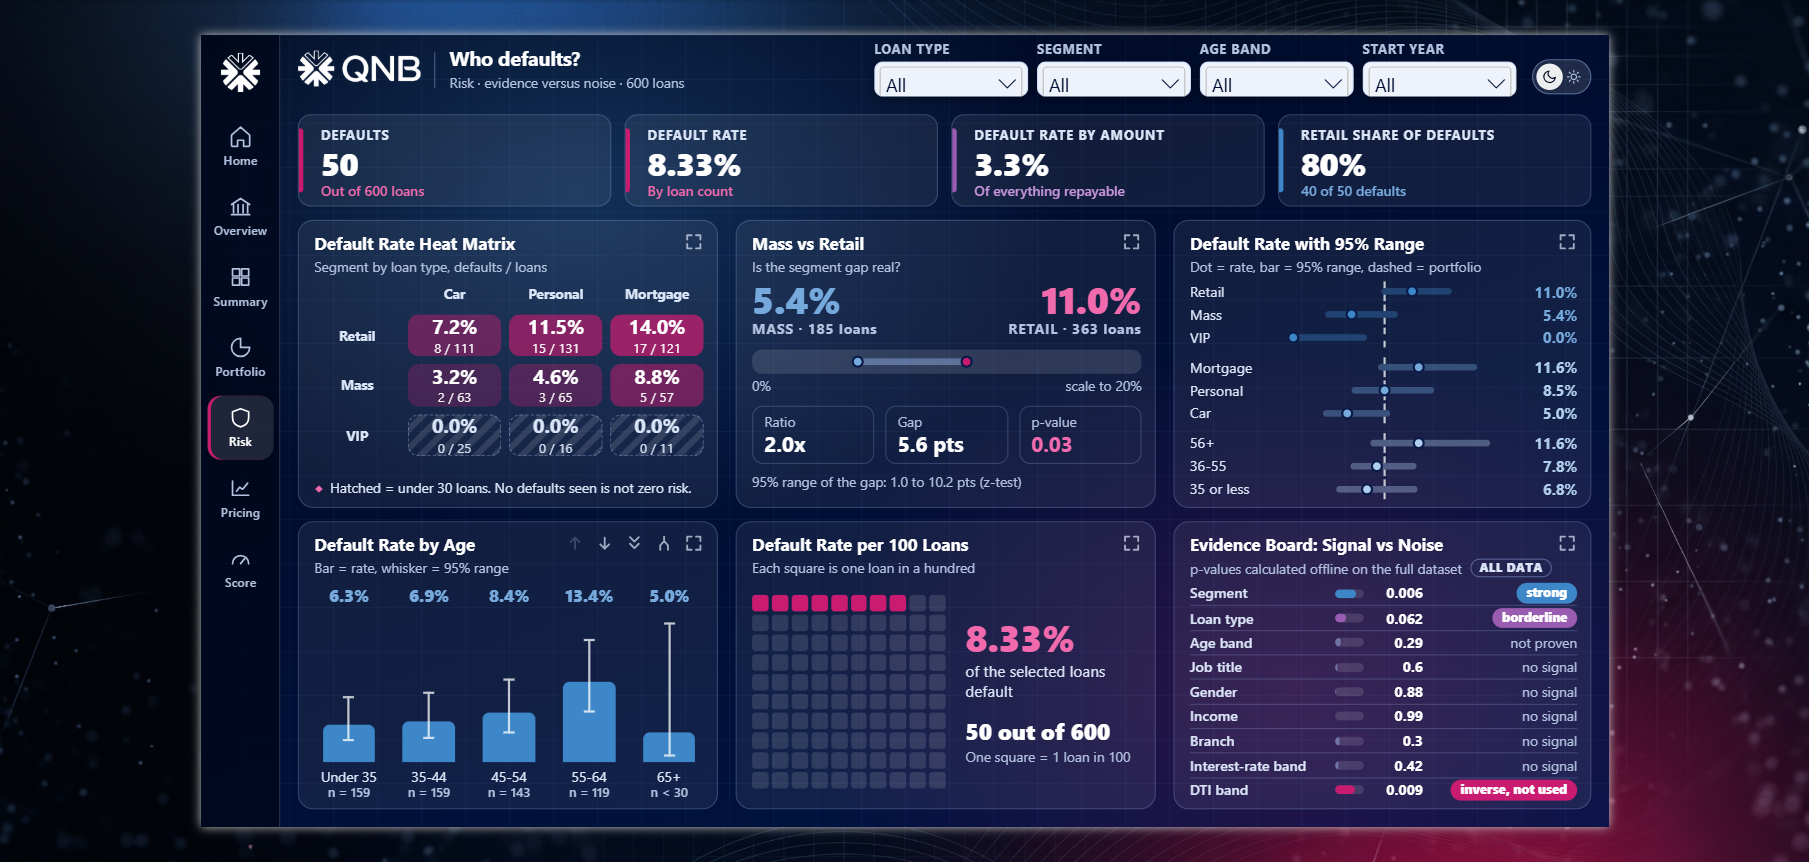

The page's visual inventory and layout, read from the dashboard file:
{"tool":"powerbi","page":{"name":"Risk Page","canvas":[1280,720],"ordinal":4},"visuals":[{"type":"htmlContent443BE3AD55E043BF878BED274D3A6855","fields":{"content":["HTML Visuals.page_05_risk"]},"box":[0,0,1280,720],"z":0},{"type":"slicer","fields":{"Values":["dim_loan_type.loan_type"]},"box":[612,24,140,32],"z":101},{"type":"slicer","fields":{"Values":["dim_customer.segment"]},"box":[760,24,140,32],"z":102},{"type":"slicer","fields":{"Values":["dim_customer.age_band"]},"box":[908,24,140,32],"z":103},{"type":"slicer","fields":{"Values":["fact_loan.start_year"]},"box":[1056,24,140,32],"z":104}]}

Visuals, with their boxes on the page's 1280x720 design canvas (x1, y1, x2, y2). These are canvas units, not pixel positions in the 1809x862 screenshot, which may show the page scaled, cropped or inside an application window:
htmlContent443BE3AD55E043BF878BED274D3A6855 - HTML Visuals.page_05_risk: [0, 0, 1280, 720]
slicer - dim_loan_type.loan_type: [612, 24, 752, 56]
slicer - dim_customer.segment: [760, 24, 900, 56]
slicer - dim_customer.age_band: [908, 24, 1048, 56]
slicer - fact_loan.start_year: [1056, 24, 1196, 56]
